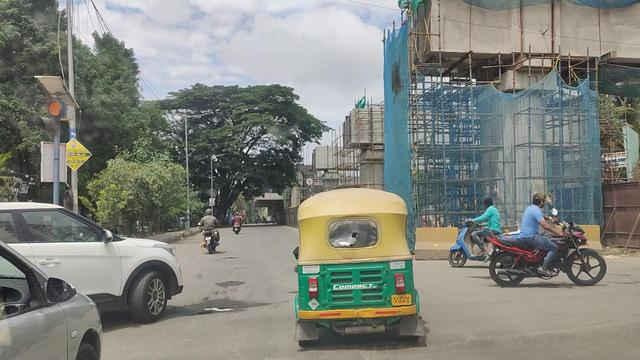LMV: (295, 187, 424, 350), (499, 196, 595, 287), (451, 197, 513, 271)
RoadDamages: (189, 294, 241, 323)
